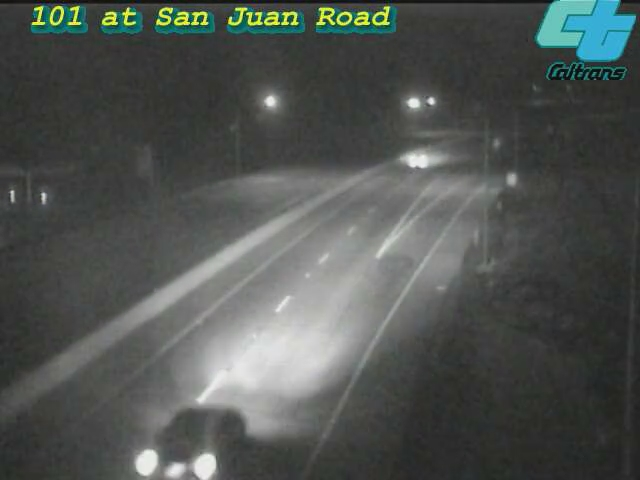vehicle: (135, 392, 245, 480), (379, 121, 459, 201)
